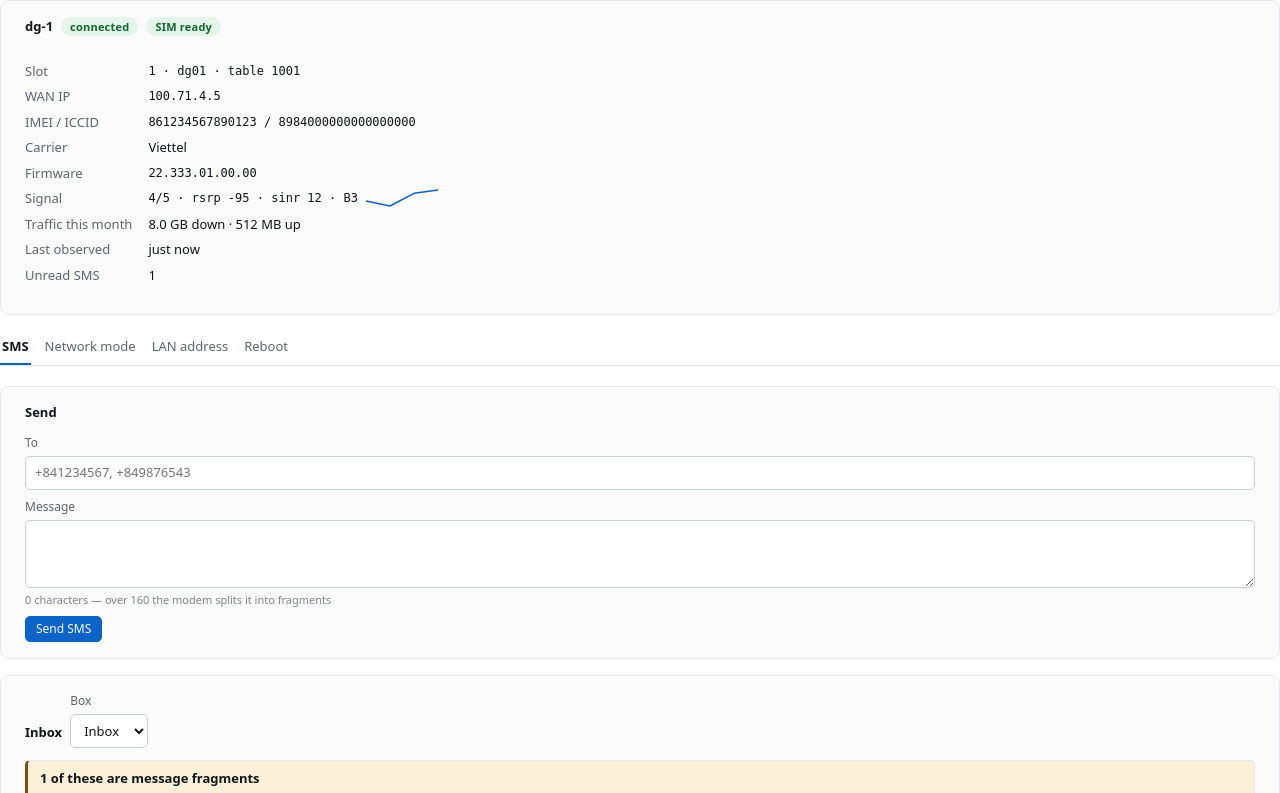
Scenario: LTE-only lock › warns that the connection will drop before it runs
Check: the tab "SMS" is shown, box [0, 331, 31, 364]
Click the tab "Network mode".
click(90, 348)  # box [43, 331, 138, 364]
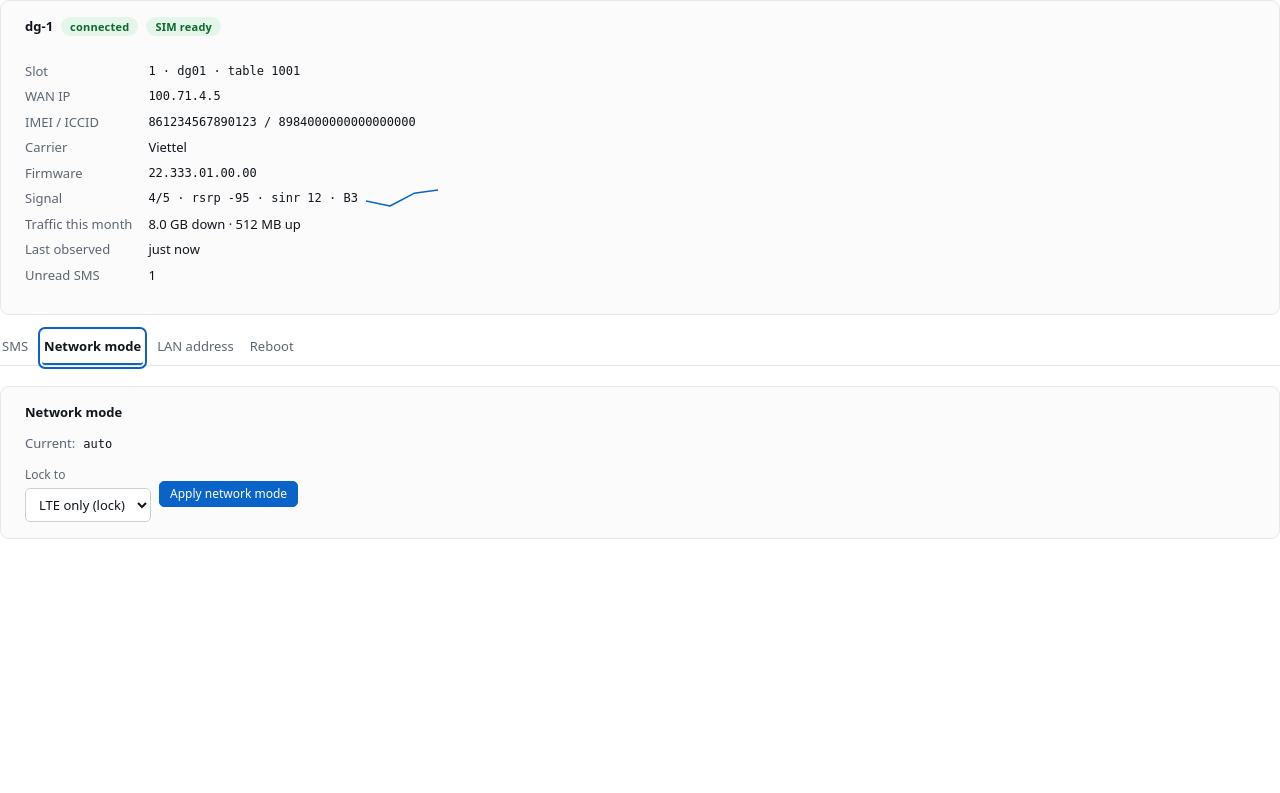
Click the button "Apply network mode".
click(229, 494)  # box [159, 480, 298, 506]
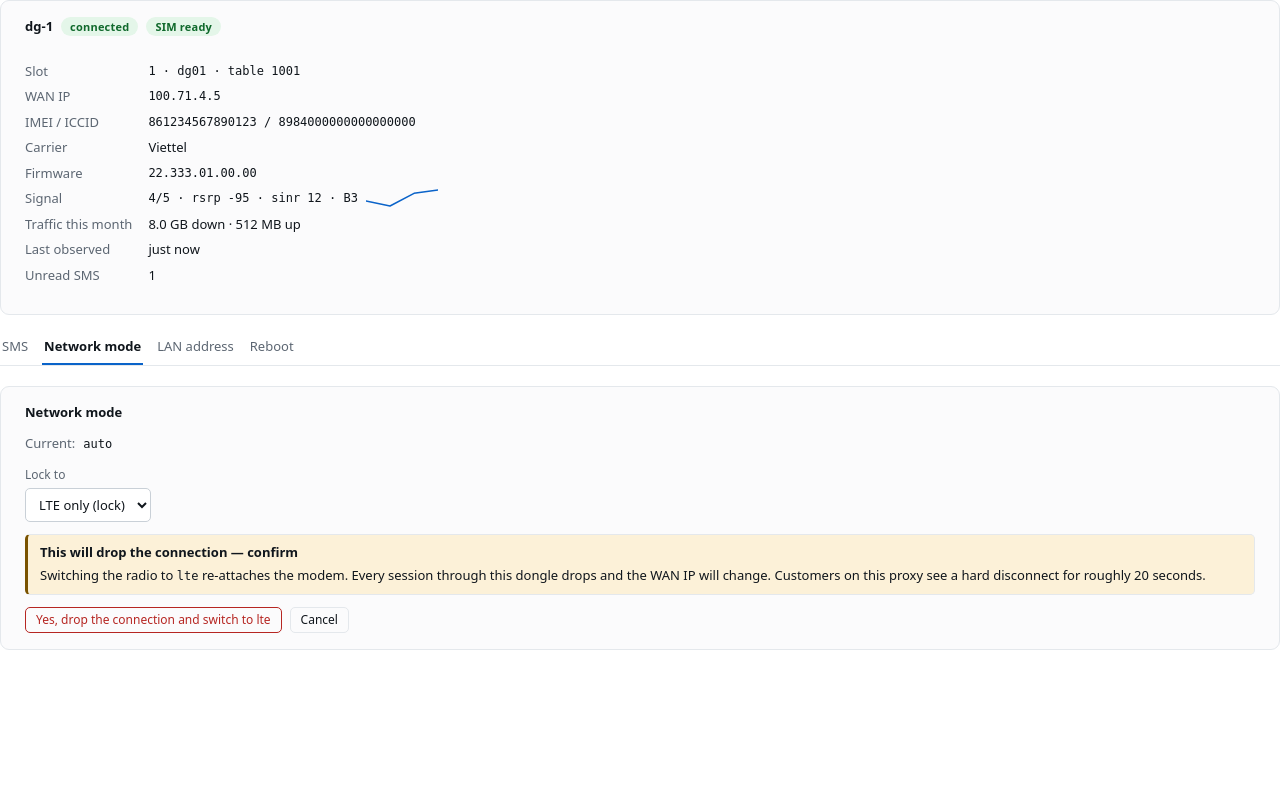
Check: the text "This will drop the connection — confirm" is shown, box [40, 542, 298, 560]
Click the button "Yes, drop the connection and switch to lte".
click(153, 620)  # box [25, 606, 282, 632]
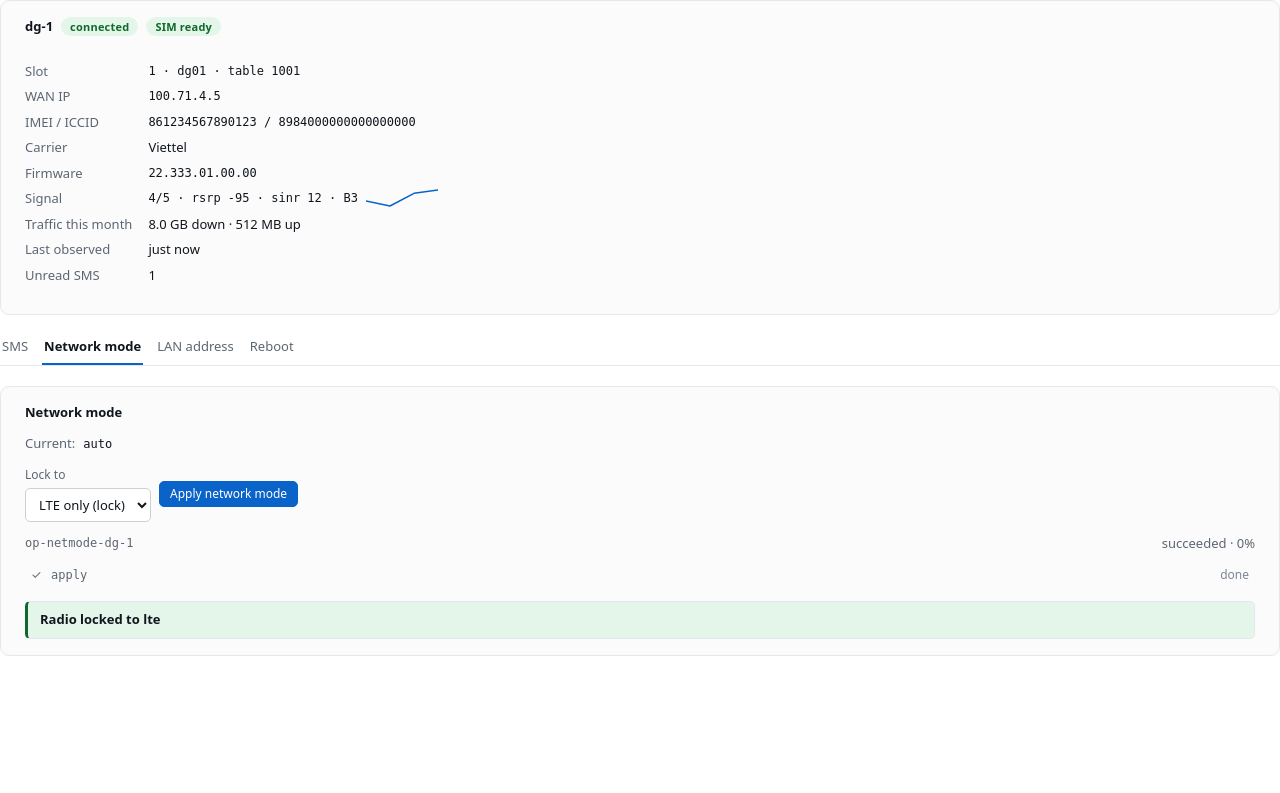
Check: the text "Radio locked to lte" is shown, box [40, 610, 160, 628]
